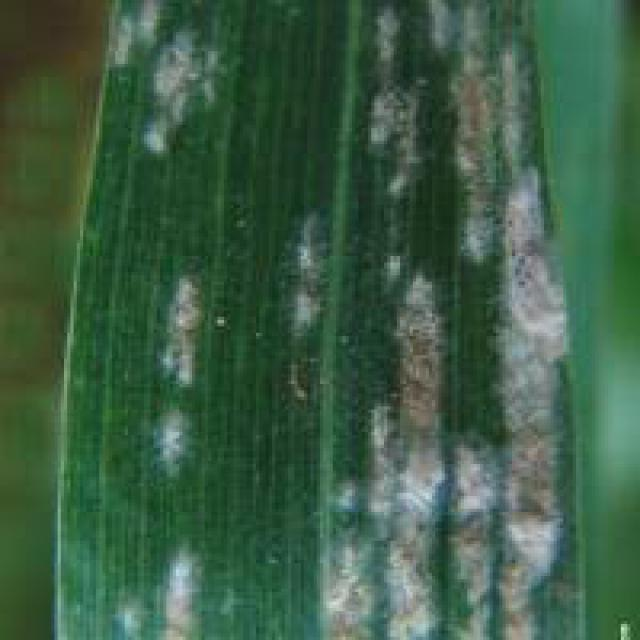Powdery Mildew: (106, 0, 572, 640)
